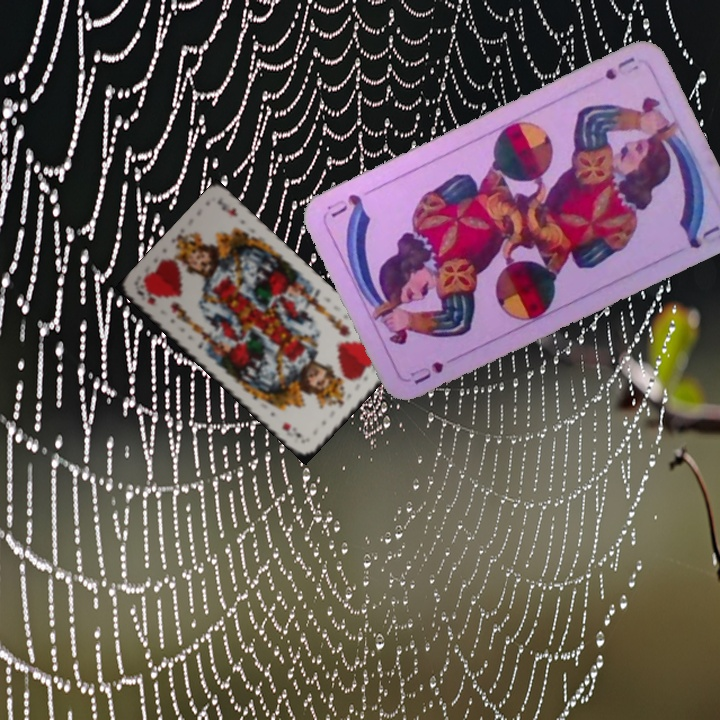HK: (133, 283, 159, 308)
SU: (600, 53, 642, 83), (405, 357, 447, 387)
